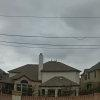Chimney: (33, 48, 48, 73)
